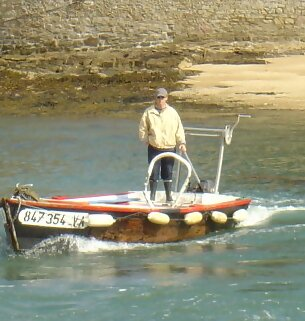person: (137, 82, 189, 217)
